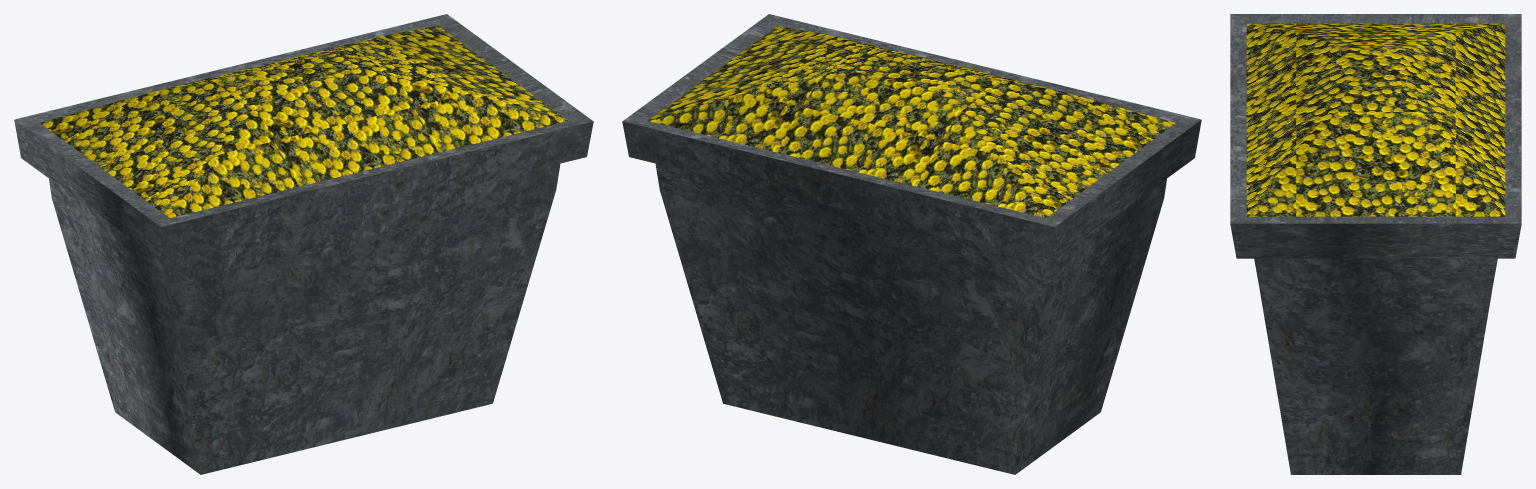
The model's file is yellowPlanter.fbx.
3 views of the same model, side by side, from view 1: azimuth 30°, elevation 25°; view 2: azimuth 150°, elevation 25°; view 3: azimuth 270°, elevation 25° (orthographic).
Visible parts, largest first — view 1: pCube39; view 2: pCube39; view 3: pCube39.
Part boxes in pixels (x1,y1,x2,y2): pCube39: (14,14,593,474); pCube39: (622,14,1201,474); pCube39: (1230,14,1521,474).
Bounding box in the file's own units: 4.1 × 3.03 × 2.41.
2 materials, 2 textured.
